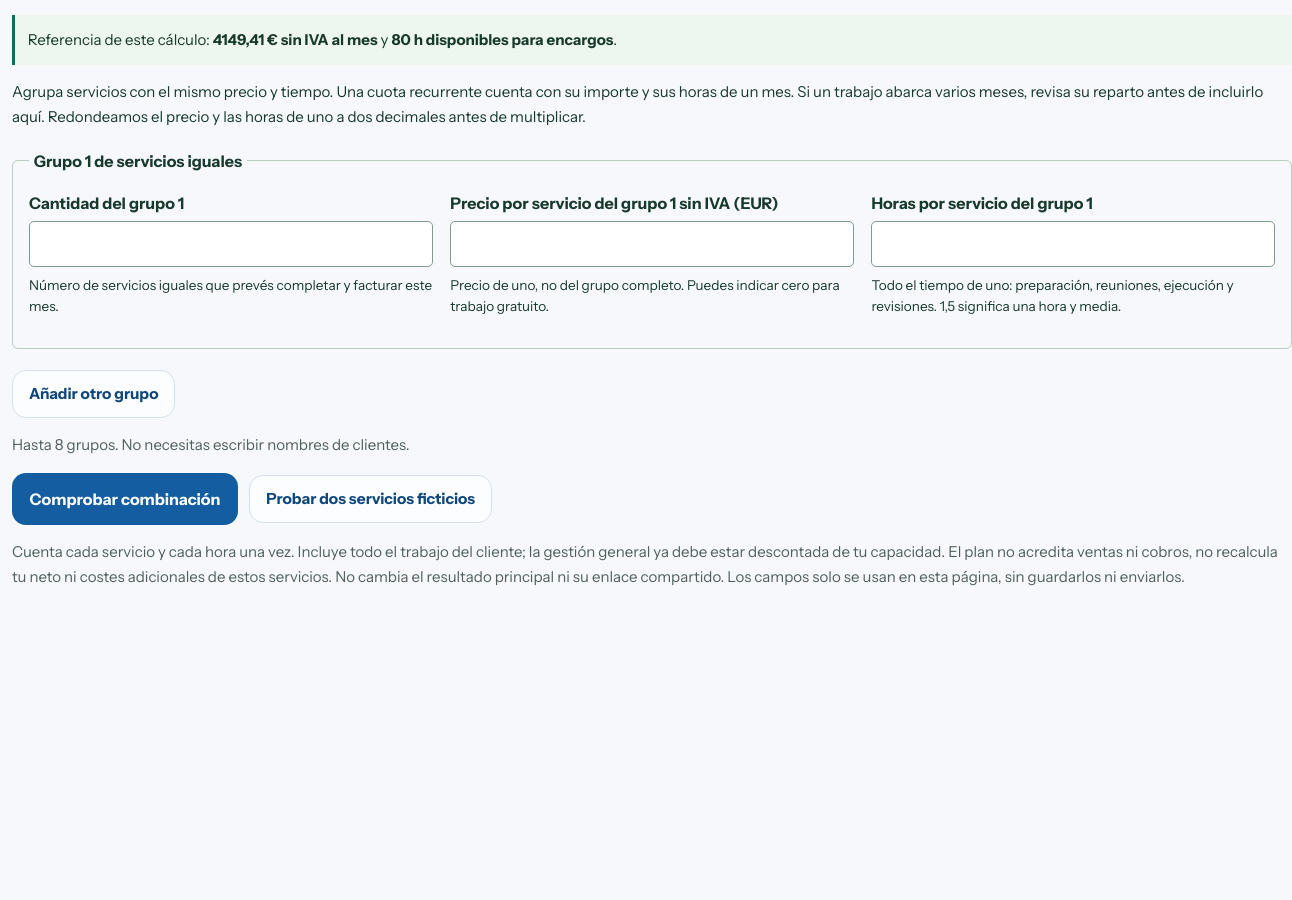
monthly portfolio editor › starts with one blank group and focuses invalid input without creating a form
This screenshot has width=1292, height=900.
Expected: the number of fields is 3, [29, 221, 433, 267]; [450, 221, 854, 267]; [871, 221, 1275, 267]
Expected: the 1st field is empty, [29, 221, 433, 267]
Click the button "Comprobar combinación": (125, 499) [12, 473, 238, 525]
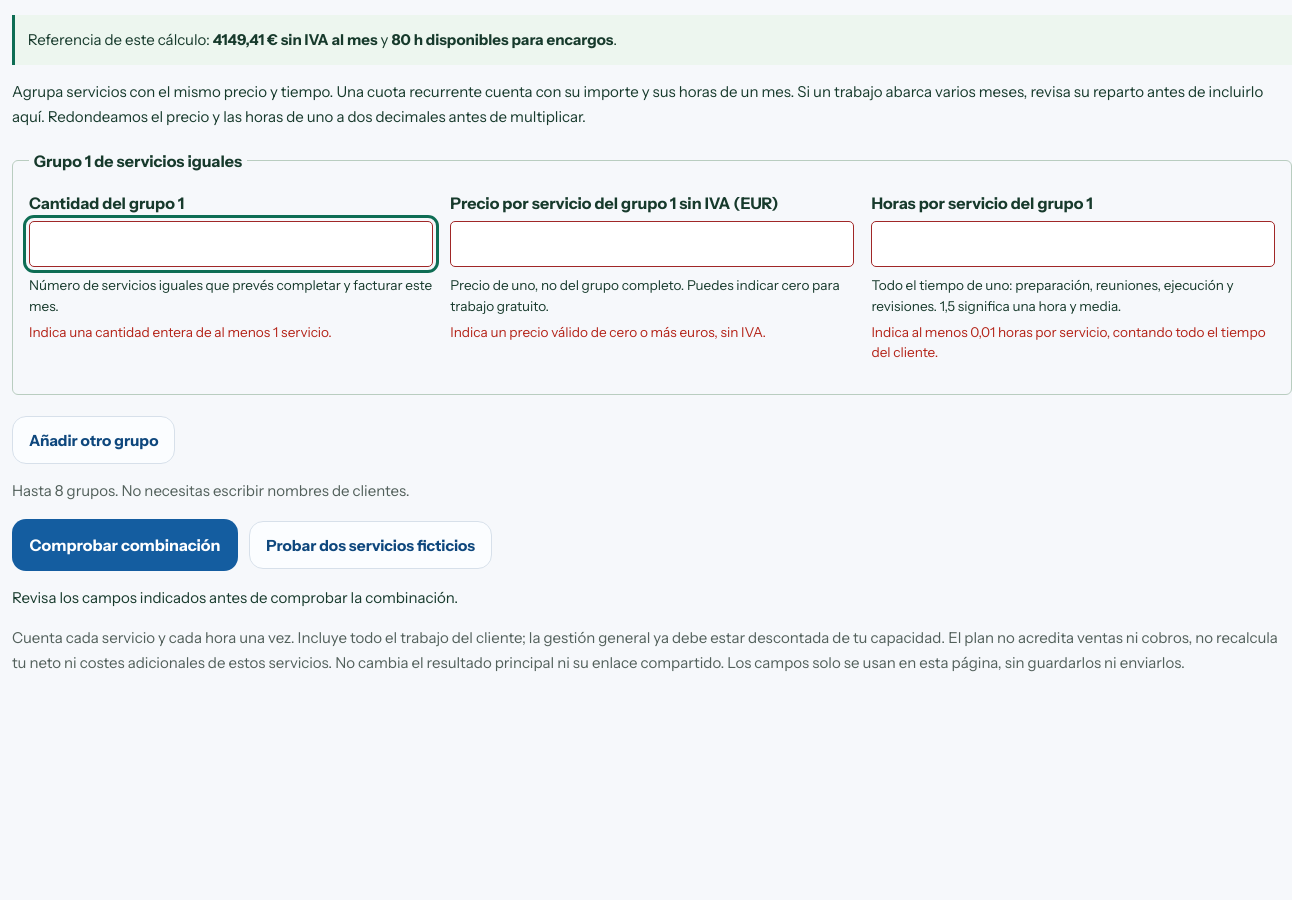
Expected: the message named "Plan de servicios combinados" shows "Revisa los campos", [12, 588, 458, 607]
